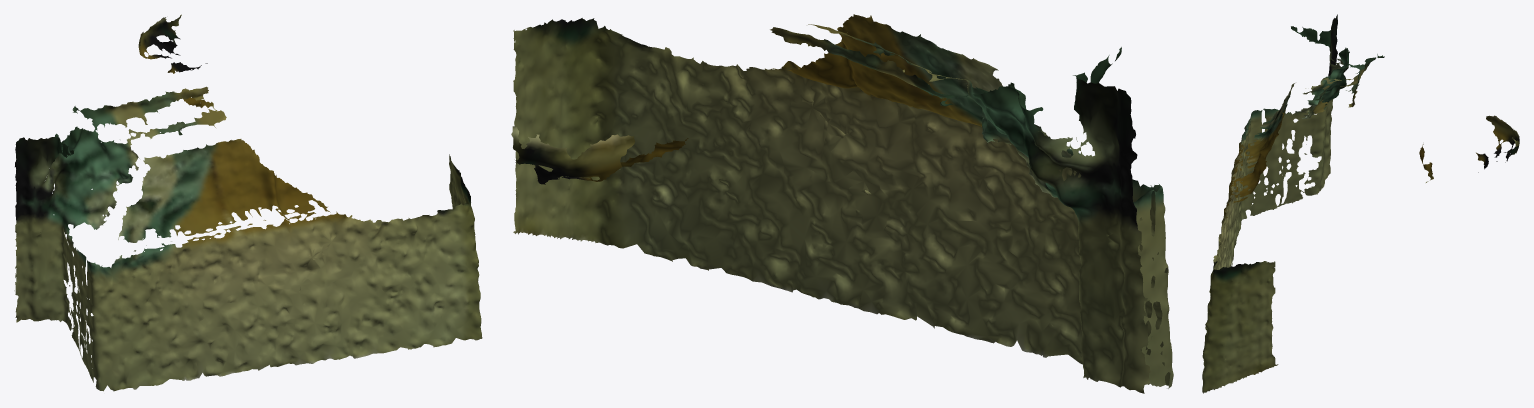
The model's file is color_model_f007_20260209_014330.obj.
3 renders of one model, left to right at view 1: azimuth 30°, elevation 25°; view 2: azimuth 150°, elevation 25°; view 3: azimuth 270°, elevation 25°, orthographic. The views are drawn at different scales.
Size of the model in its own units: 1.98 by 1.12 by 1.51.
